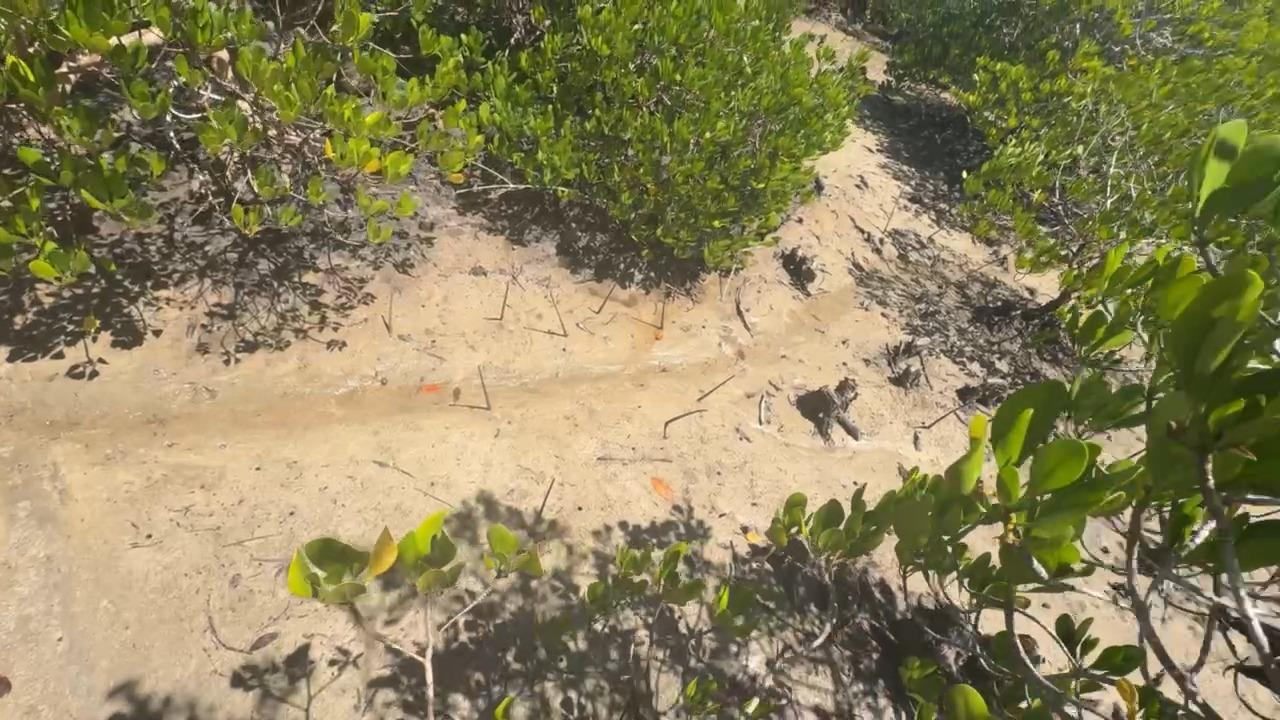Tree: (596, 265, 628, 313), (881, 187, 906, 235), (533, 478, 556, 526), (927, 404, 969, 429), (697, 375, 735, 402), (550, 290, 568, 337), (665, 409, 709, 426), (477, 365, 492, 410), (721, 263, 737, 302), (500, 280, 509, 320), (998, 331, 1022, 345), (389, 291, 394, 337), (929, 225, 945, 238), (661, 299, 666, 328)
